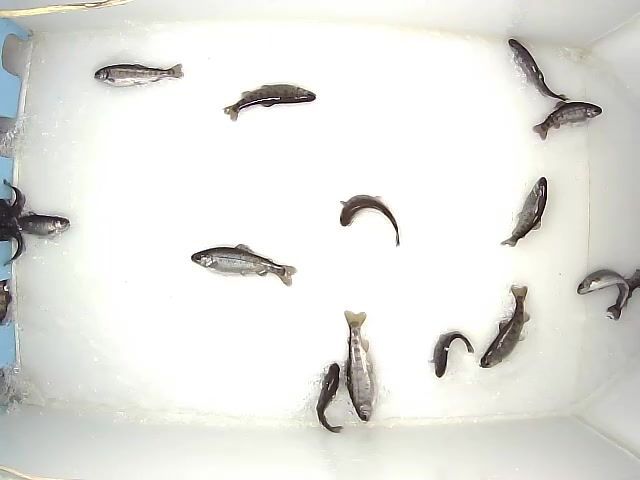fish: (190, 243, 297, 287), (479, 284, 530, 369), (507, 38, 571, 103), (221, 83, 316, 121), (499, 175, 548, 248), (343, 309, 374, 423), (339, 194, 399, 246), (532, 100, 602, 141), (577, 269, 629, 321), (93, 62, 185, 87), (428, 331, 474, 379), (315, 362, 343, 434), (2, 211, 70, 240), (1, 214, 24, 267), (1, 178, 26, 223)
